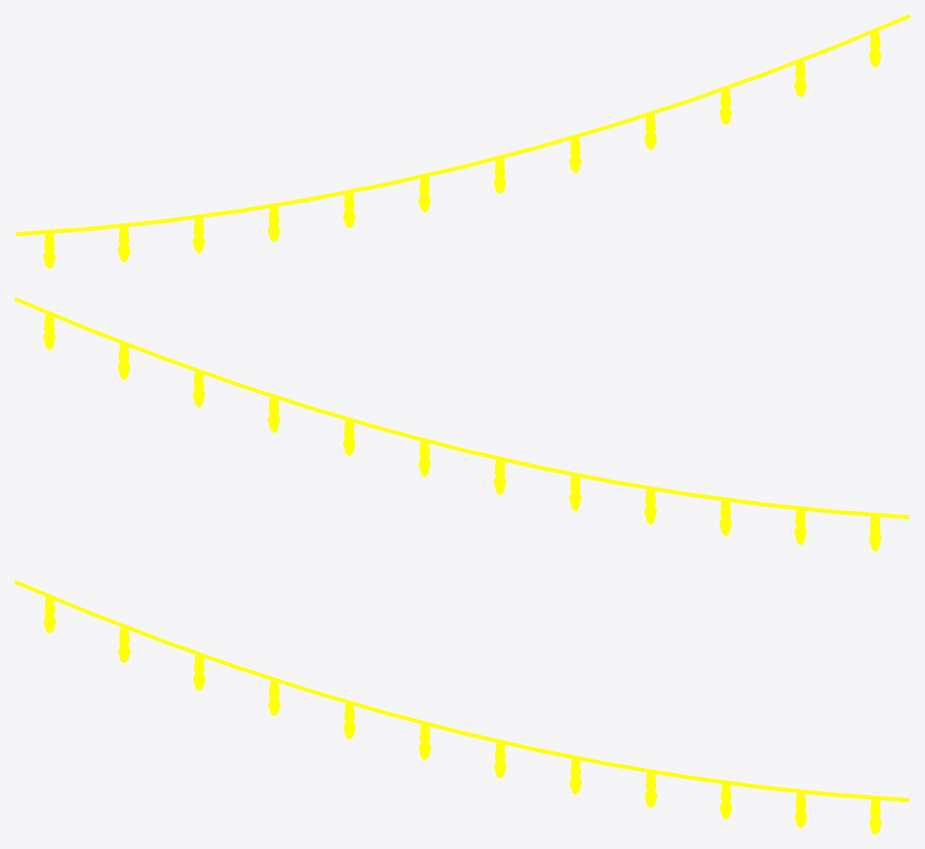
Rendered from light-string-color-big-3m-christmas.glb.
The picture shows the model from 3 angles, top to bottom: view 1: azimuth 30°, elevation 25°; view 2: azimuth 150°, elevation 25°; view 3: azimuth 330°, elevation 25°; orthographic projection.
Parts seen in each view (by area): view 1: light_string_color_big_3m_christmas; view 2: light_string_color_big_3m_christmas; view 3: light_string_color_big_3m_christmas.
Boxes of the visible parts, box(x1,y1,x2,y2) form: light_string_color_big_3m_christmas: box(15, 14, 910, 268); light_string_color_big_3m_christmas: box(14, 297, 909, 551); light_string_color_big_3m_christmas: box(14, 580, 909, 834).
Bounding box in the file's own units: 3 × 0.2571 × 0.0357.
2 materials, 2 textured.
